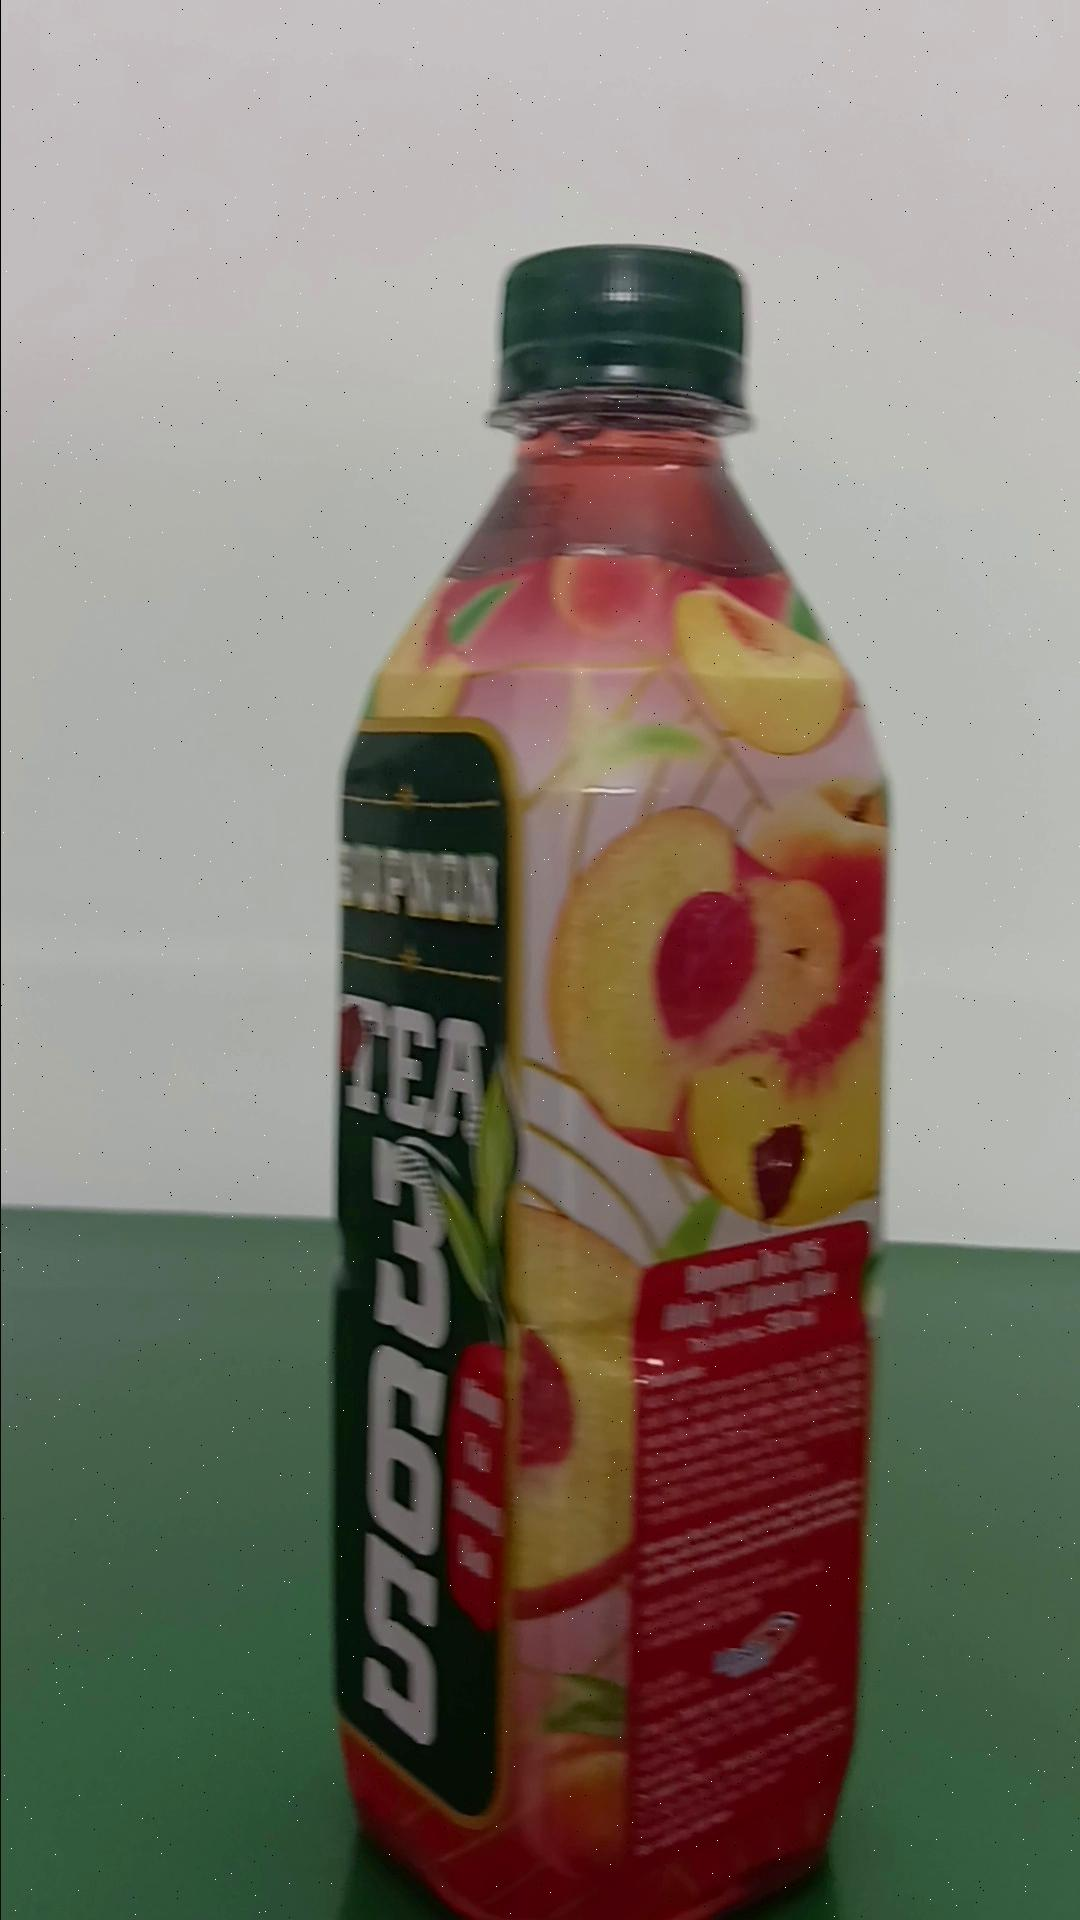loi rach va lap chai: (327, 232, 882, 1905)
